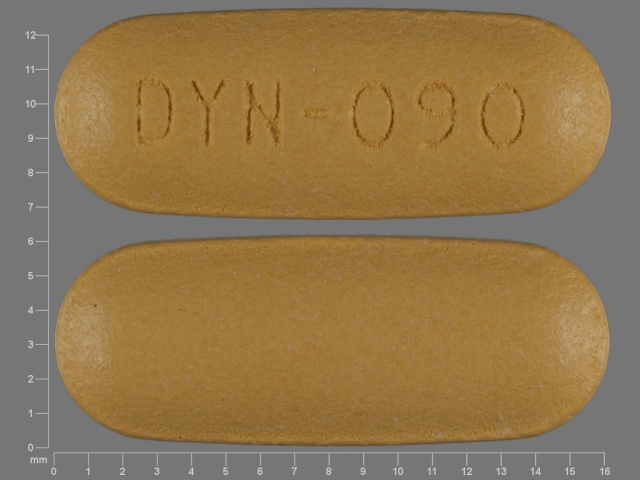0: (347, 80, 398, 148), (483, 76, 523, 146)
9: (414, 79, 459, 149)
D: (133, 76, 177, 151)
N: (240, 77, 286, 150)
Y: (187, 76, 229, 151)
